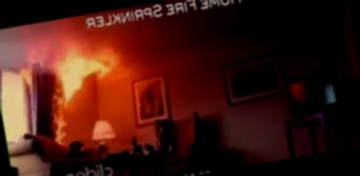fire: (36, 31, 127, 111)
